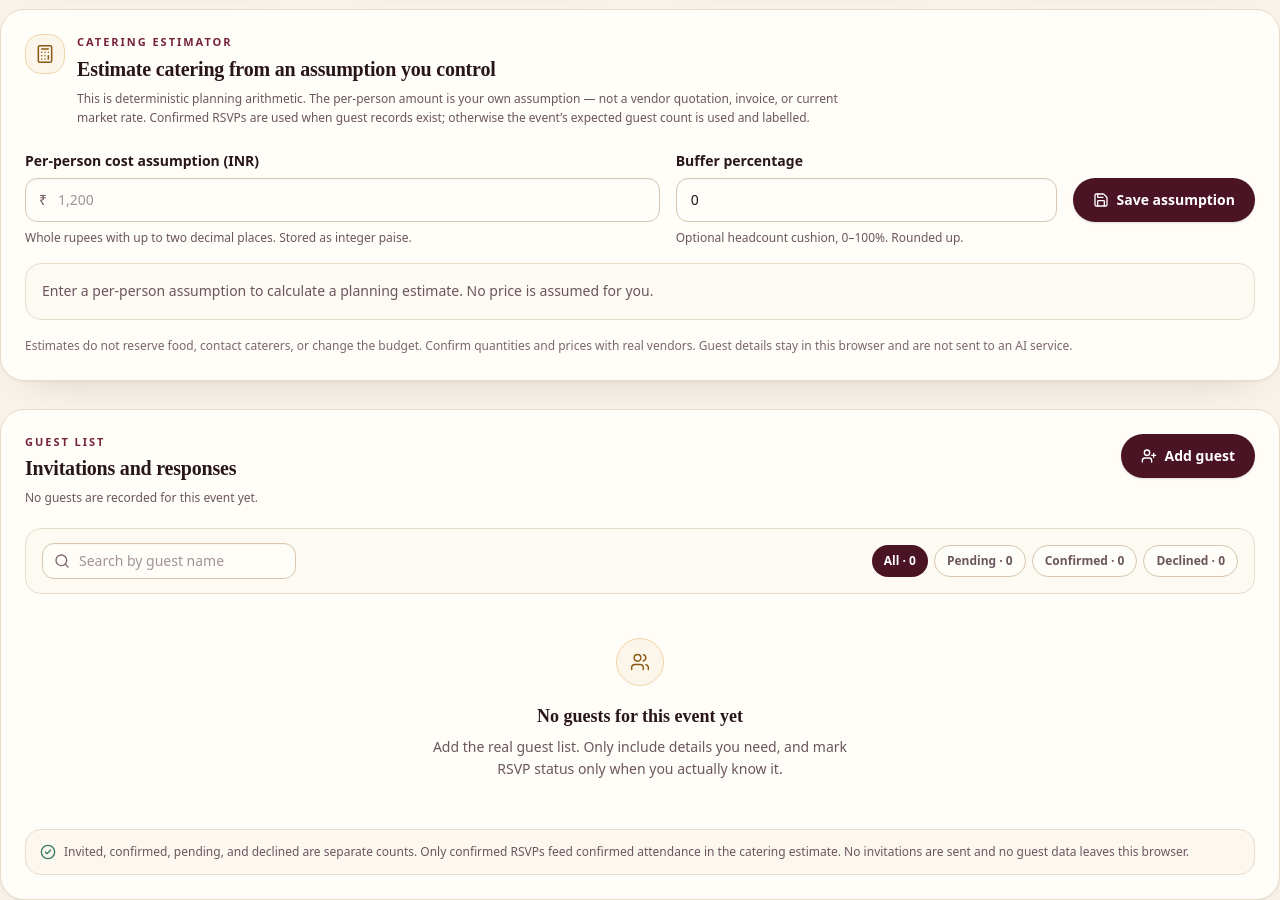
Test: GuestsPage guest management › requires a guest name without collecting unnecessary contact details
(page scrolled)
Click the button "Add guest" at (1188, 456), box [1121,434,1255,478]
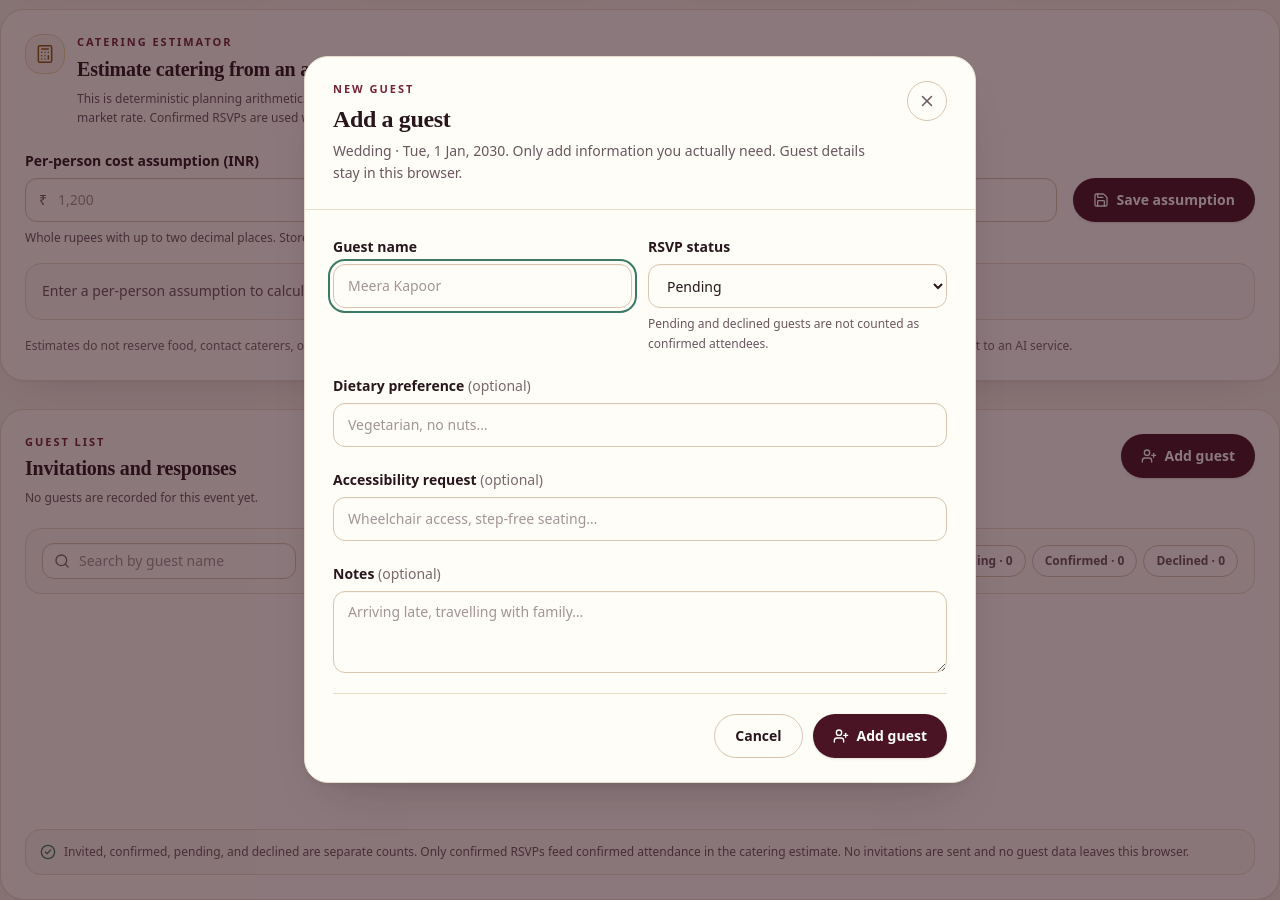
Click the button "Add guest" at (880, 736), box [813,714,947,758]
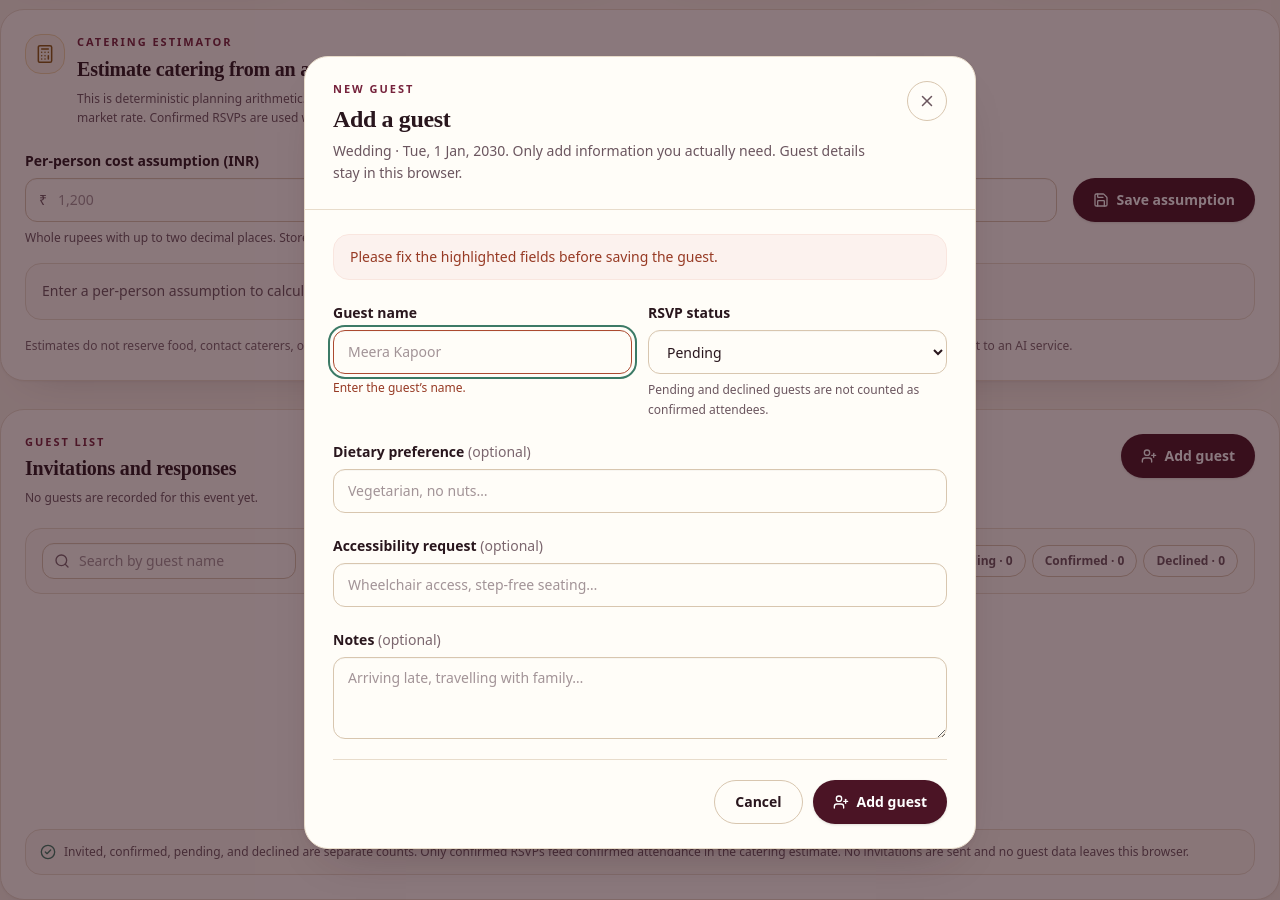
Check: the text "No guests are recorded for this event yet." is shown, box [25,488,258,508]
Check: the message shows "Please fix the highlighted fields", box [350,247,718,266]
Check: the text "Enter the guest’s name." is shown, box [333,379,466,396]
